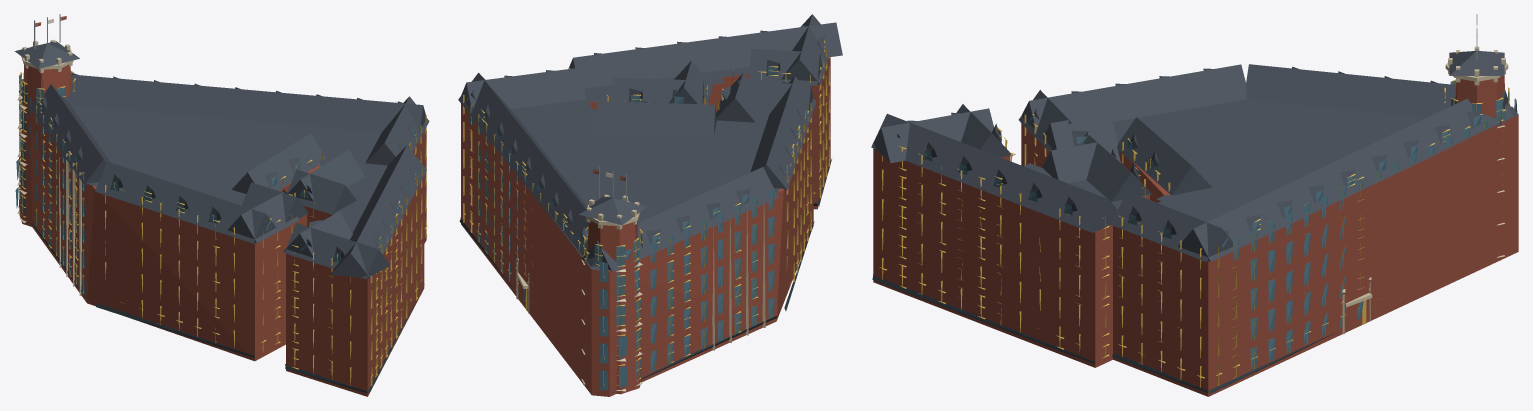
Rendered from scheepvaarthuis.lod1.glb.
3 renders of one model, left to right at view 1: azimuth 30°, elevation 25°; view 2: azimuth 150°, elevation 25°; view 3: azimuth 270°, elevation 25°, orthographic. The views are drawn at different scales.
Visible parts, largest first — view 1: scheepvaarthuis; view 2: scheepvaarthuis; view 3: scheepvaarthuis.
Part boxes in pixels (left/top/right/bottom): scheepvaarthuis: left=14, top=14, right=429, bottom=396; scheepvaarthuis: left=458, top=14, right=842, bottom=396; scheepvaarthuis: left=871, top=14, right=1518, bottom=396.
Size of the model in its own units: 65.84 by 38.9 by 99.55.
